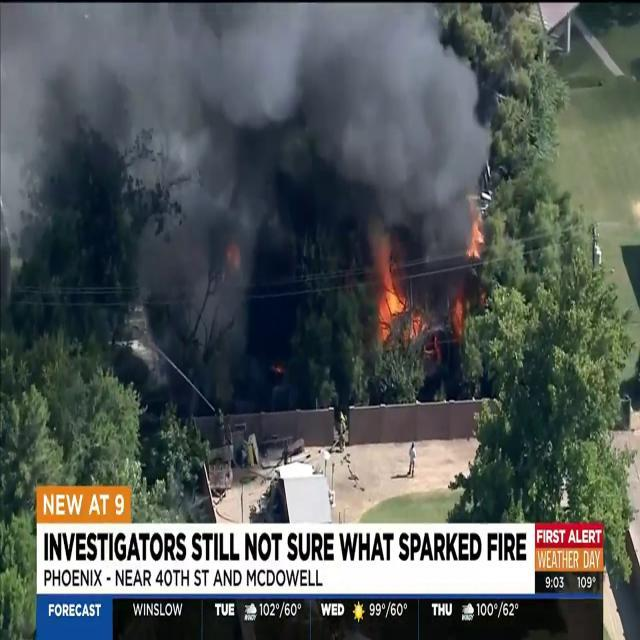Fire: (372, 242, 410, 344), (465, 210, 487, 262)
Smoke: (0, 1, 492, 333)
